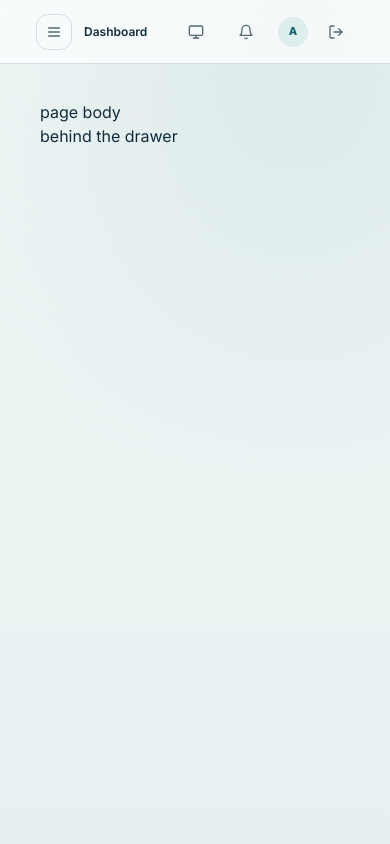
Scenario: the off-canvas drawer › closes on Escape
The image size is (390, 844).
Click the button named "Open navigation".
click(54, 32)  # box [36,14,72,50]
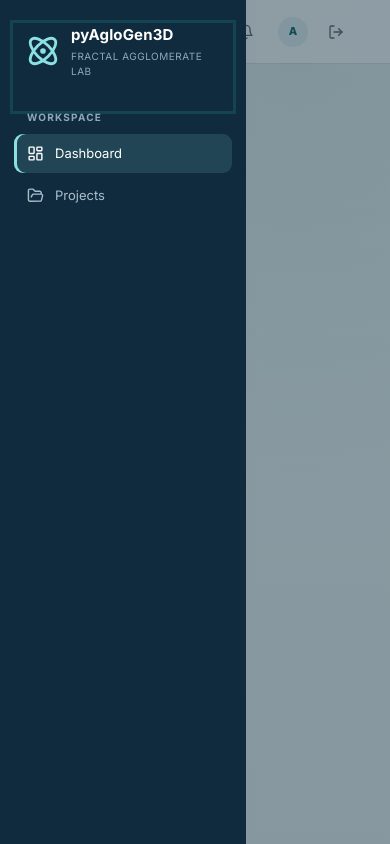
Press Escape
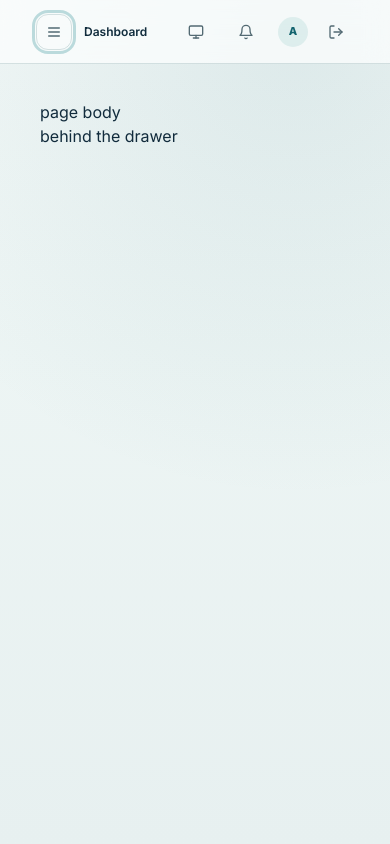
Expected: the button "Navigation" is gone
